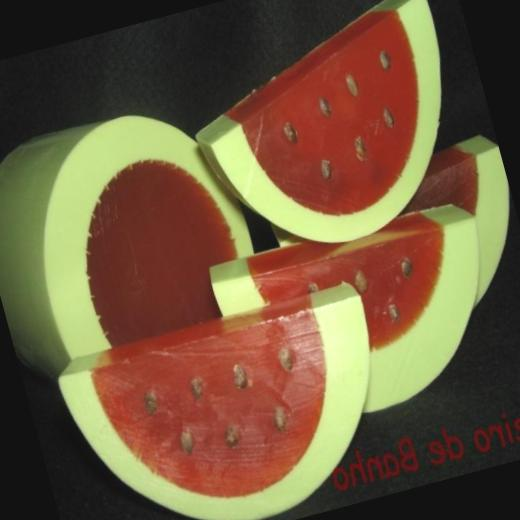Cherry: (55, 280, 409, 520), (172, 0, 485, 271), (0, 87, 276, 390), (206, 196, 519, 447), (262, 126, 520, 349)
